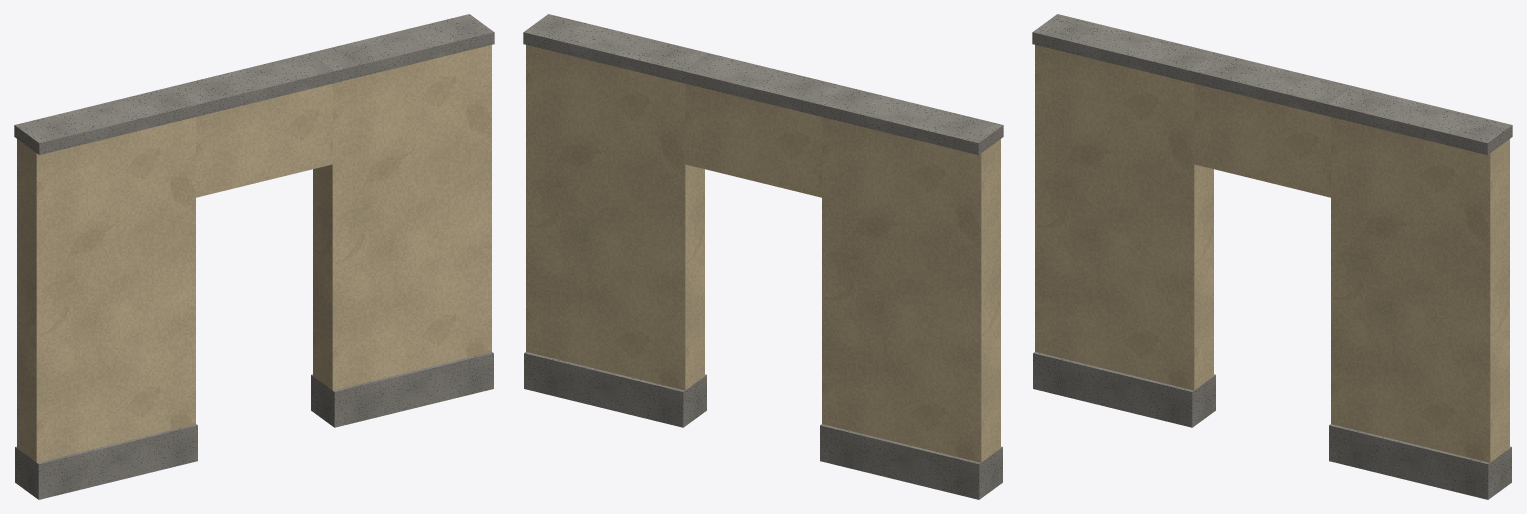
Rendered from wall-door-4m.glb.
3 renders of one model, left to right at view 1: azimuth 30°, elevation 25°; view 2: azimuth 150°, elevation 25°; view 3: azimuth 330°, elevation 25°, orthographic.
Visible parts, largest first — view 1: wall-door-4m; view 2: wall-door-4m; view 3: wall-door-4m.
Part boxes in pixels (x1,y1,x2,y2): wall-door-4m: [14, 14, 494, 499]; wall-door-4m: [523, 14, 1003, 499]; wall-door-4m: [1032, 14, 1512, 499].
Size of the model in its own units: 4 by 3 by 0.38.
Materials: 1 (1 with a texture image).
